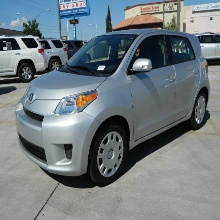no damage: (16, 28, 210, 186), (1, 33, 47, 81)
